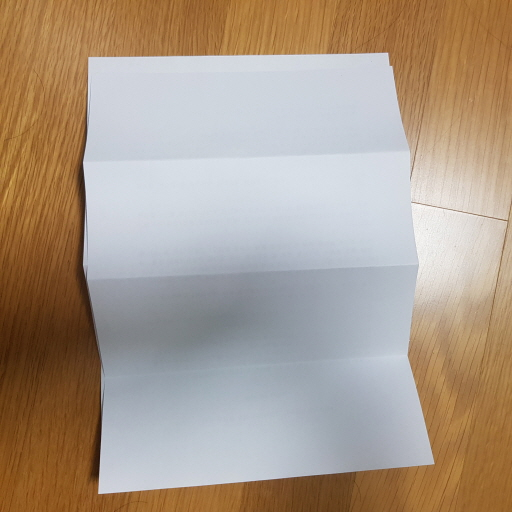Paper_3: (69, 48, 450, 502)
